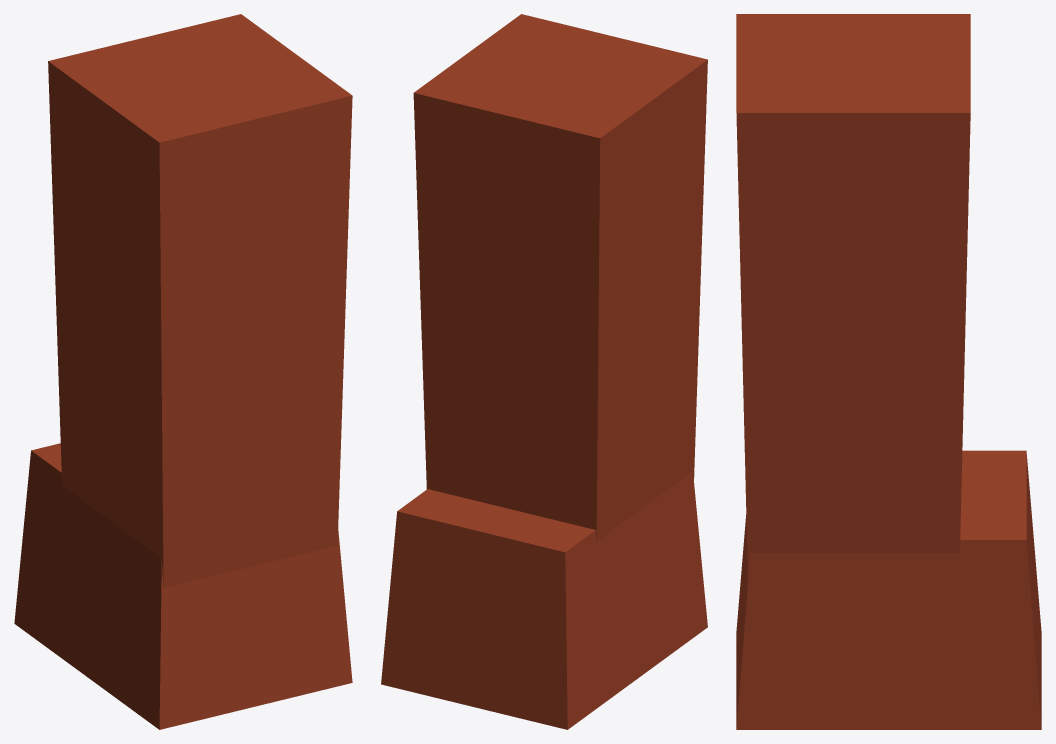
The model's file is animal_stonecrab_leg.obj.
The picture shows the model from 3 angles, left to right: view 1: azimuth 30°, elevation 25°; view 2: azimuth 150°, elevation 25°; view 3: azimuth 270°, elevation 25°; orthographic projection. The views are drawn at different scales.
Parts seen in each view (by area): view 1: animal_stonecrab_leg; view 2: animal_stonecrab_leg; view 3: animal_stonecrab_leg.
Part boxes in pixels (x1,y1,x2,y2): animal_stonecrab_leg: (14, 14, 352, 729); animal_stonecrab_leg: (381, 14, 707, 729); animal_stonecrab_leg: (736, 14, 1041, 729).
Size of the model in its own units: 0.0344 by 0.1 by 0.0448.
